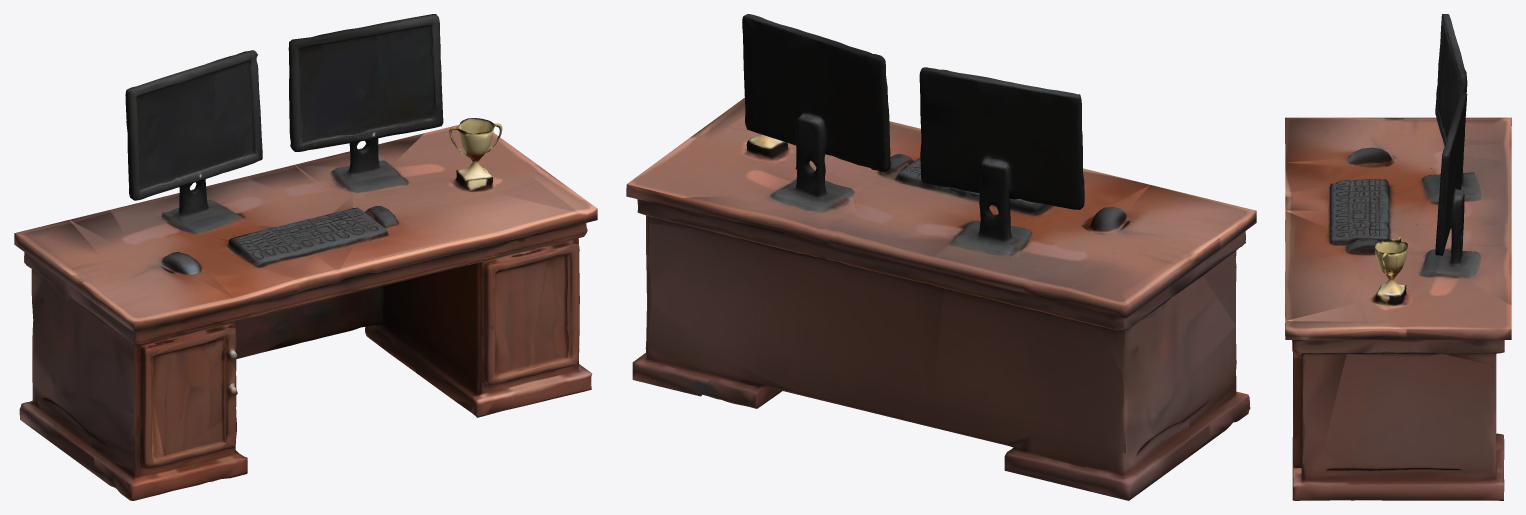
Rendered from bossdesk.glb.
3 renders of one model, left to right at view 1: azimuth 30°, elevation 25°; view 2: azimuth 150°, elevation 25°; view 3: azimuth 270°, elevation 25°, orthographic. The views are drawn at different scales.
Parts seen in each view (by area): view 1: model.001; view 2: model.001; view 3: model.001.
Part boxes in pixels (x1,y1,x2,y2): model.001: (14, 14, 597, 500); model.001: (626, 14, 1256, 500); model.001: (1285, 14, 1511, 500).
Bounding box in the file's own units: 1.76 × 1.21 × 0.7941.
Materials: 1 (1 with a texture image).
